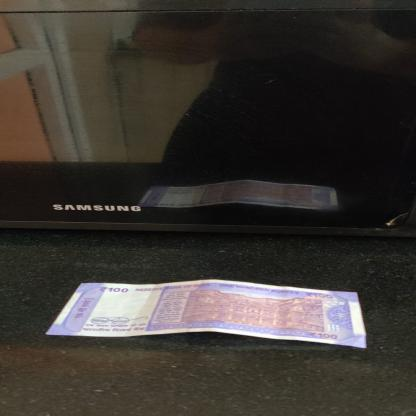New100Back: (45, 280, 377, 349)
